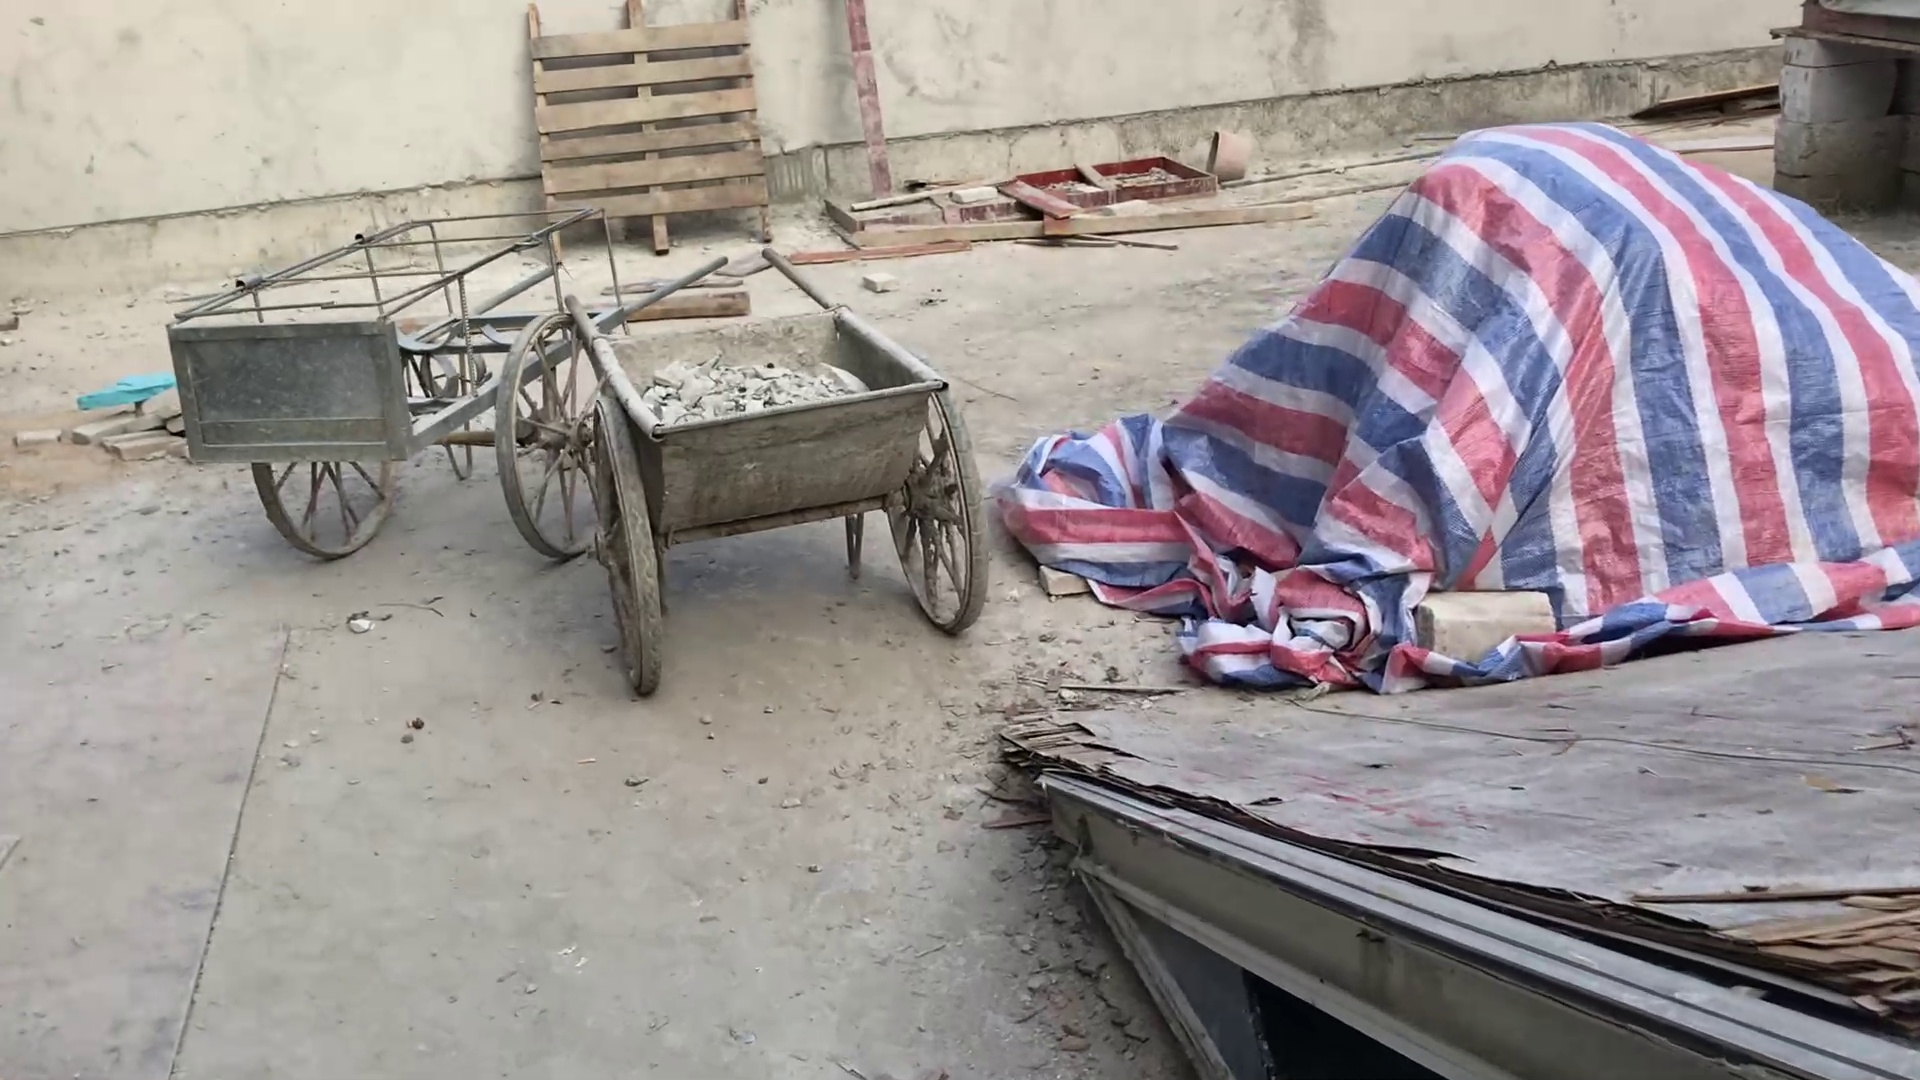handcart: (171, 153, 727, 560), (568, 262, 1019, 686)
